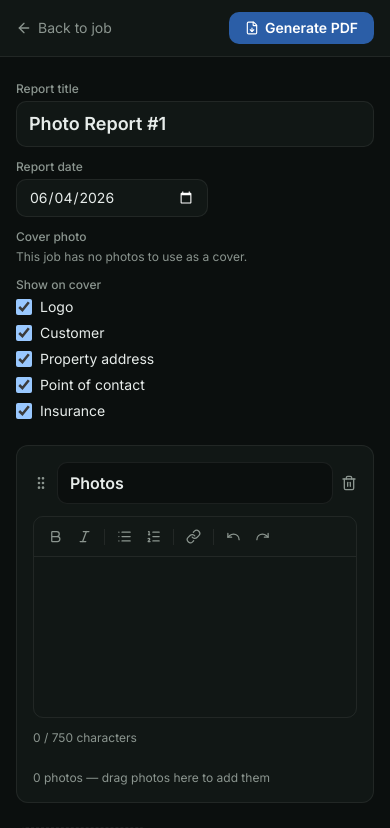
Test: PhotoReportBuilder auto-save › does not drop an edit made while an earlier save is in flight
Replace the text in the field labelled "Report title" with "A" at (195, 124), box [16,101,374,147]
Wait 2000 ms
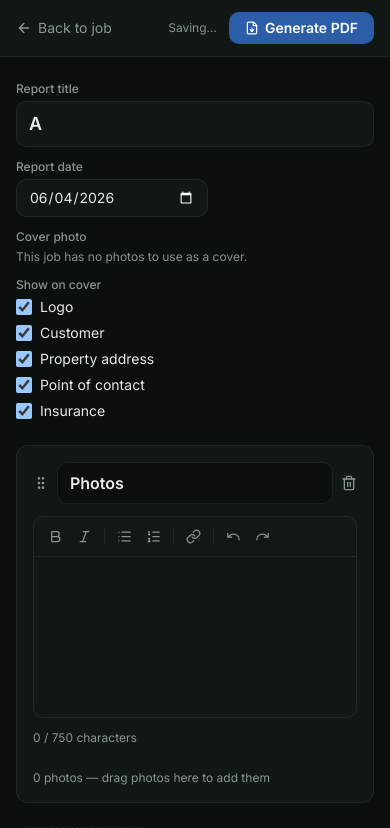
# Second edit lands WHILE the save of "A" is still in flight.
Replace the text in the field labelled "Report title" with "AB" at (195, 124), box [16,101,374,147]
Wait 2000 ms
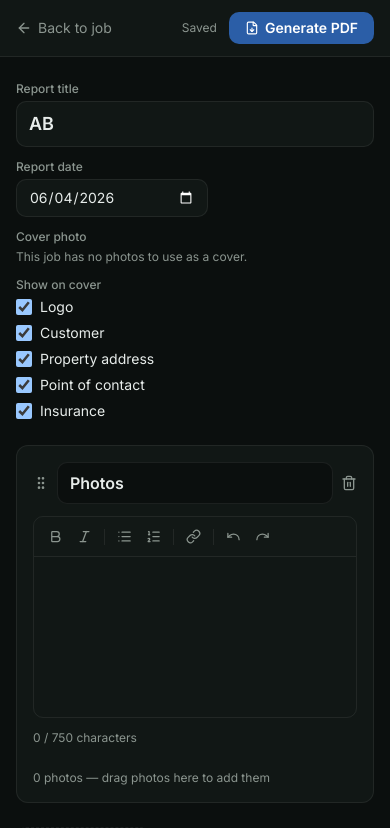
Now the text "Saved" is shown, box [182,20,217,36]
